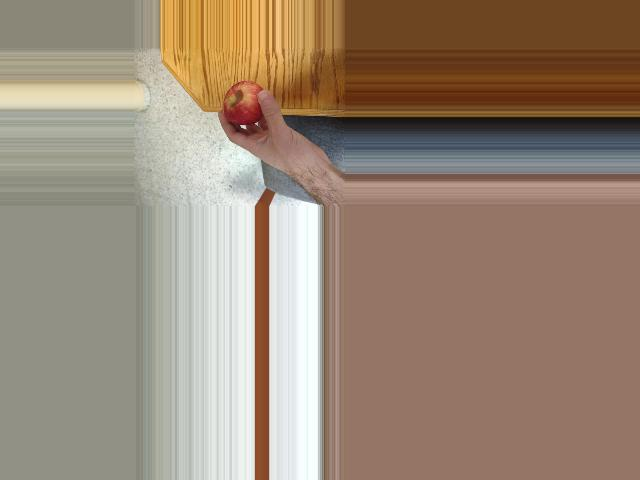apple: (221, 82, 268, 126)
